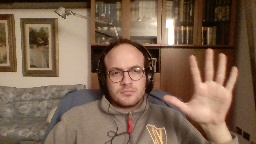Mano_aperta: (161, 47, 242, 126)
